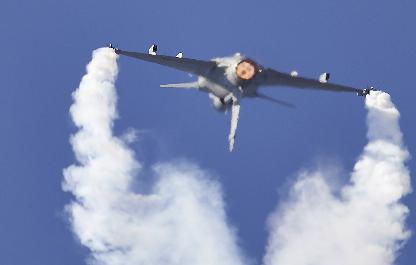JAS39: (106, 42, 378, 151)
